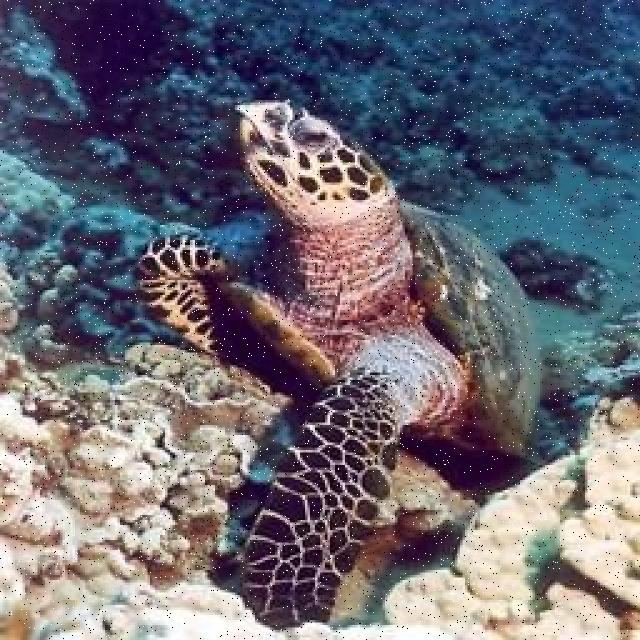fish: (132, 98, 545, 632)
